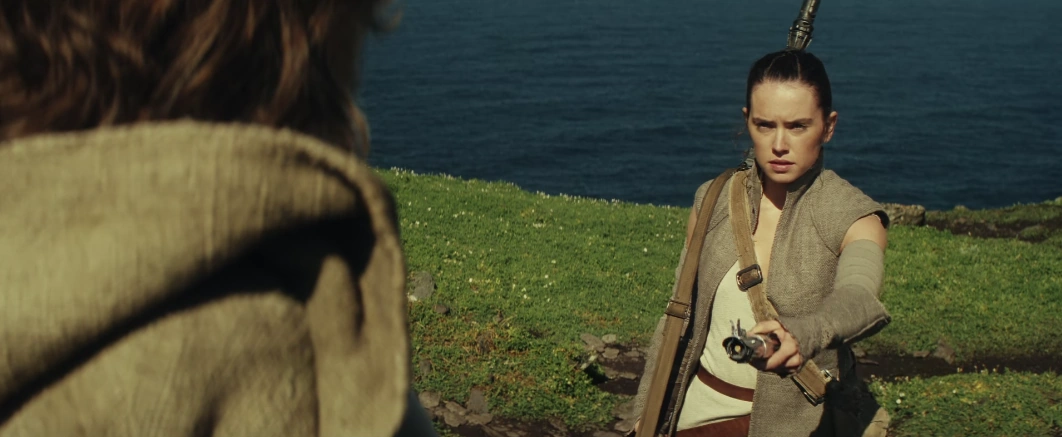Dalek: (715, 311, 797, 368)
